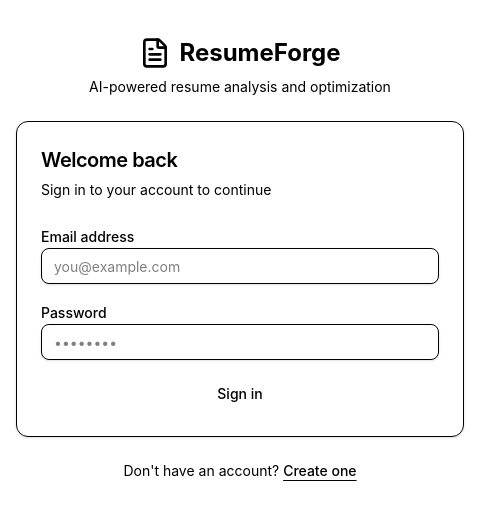
Test case: Login page › shows validation error for invalid email
Type "notanemail" into the field labelled "Email address" at [240, 266], box left=41, top=248, right=439, bottom=284
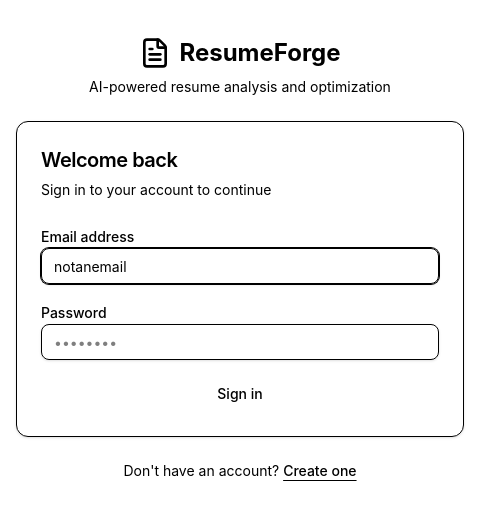
Click the button "Sign in" at [240, 394], box left=41, top=376, right=439, bottom=412
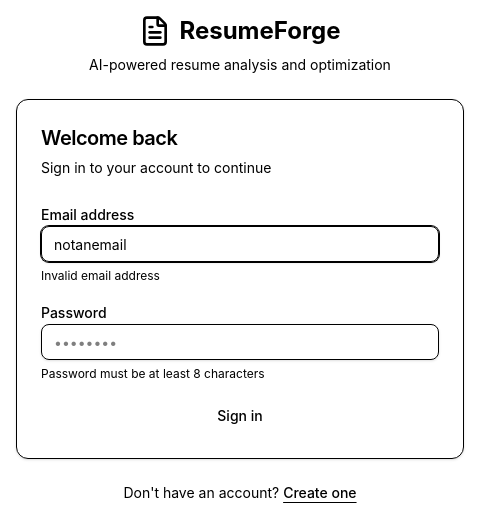
Expected: the text "Invalid email address" is shown, left=41, top=268, right=160, bottom=283
